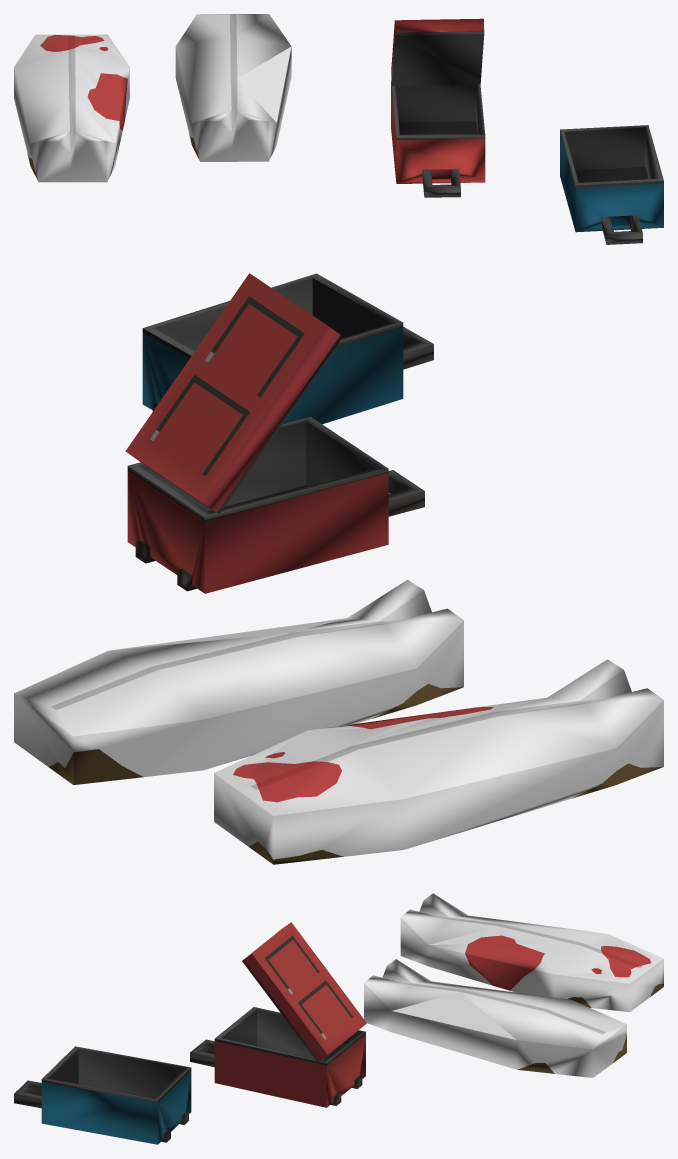
File: apoc_prop_65.glb
3 renders of one model, top to bottom at view 1: azimuth 30°, elevation 25°; view 2: azimuth 150°, elevation 25°; view 3: azimuth 270°, elevation 25°, orthographic. The views are drawn at different scales.
Parts seen in each view (by area): view 1: prop_067; view 2: prop_067; view 3: prop_067.
Boxes of the visible parts, bbox=[...] form: prop_067: bbox=[14, 14, 663, 244]; prop_067: bbox=[14, 273, 663, 864]; prop_067: bbox=[14, 893, 663, 1144].
Size of the model in its own units: 0.7121 by 0.2166 by 0.9077.
Materials: 1 (1 with a texture image).
